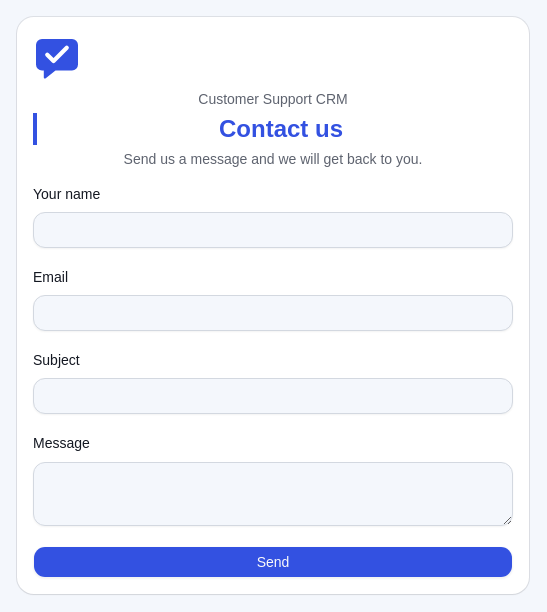
Test: Contact form (embedded web form) › submits the fields and shows the ticket number
Type "Nour Ali" into the field labelled "Your name" at (273, 230), box [33, 212, 513, 248]
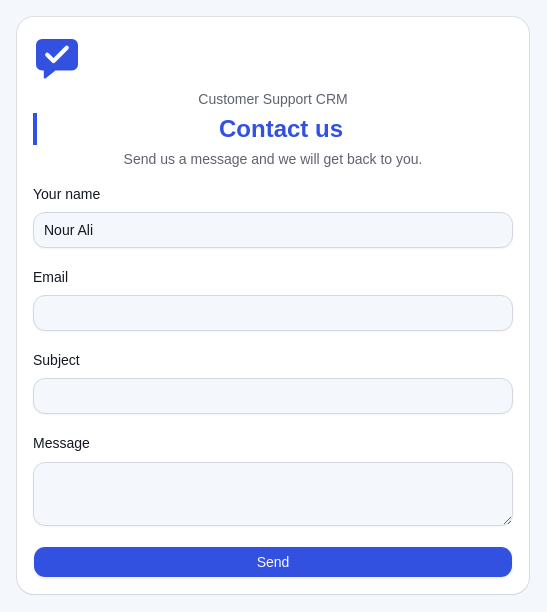
Type "nour@x.example" into the field labelled "Email" at (273, 313), box [33, 295, 513, 331]
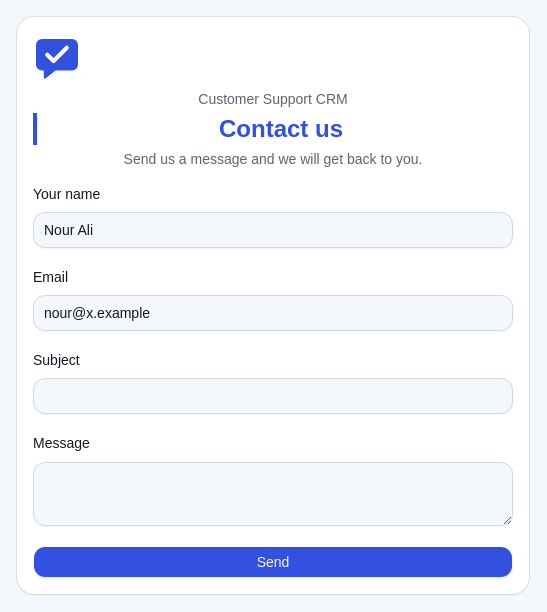
Type "Printer" into the field labelled "Subject" at (273, 396), box [33, 378, 513, 414]
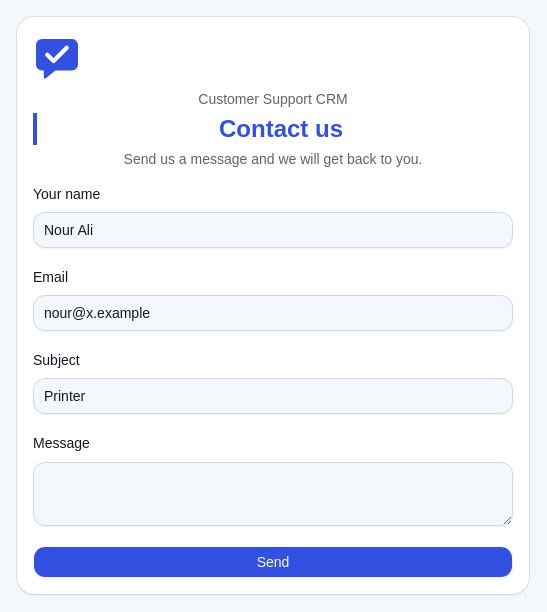
Type "Blank pages" into the text box labelled "Message" at (273, 494), box [33, 462, 513, 526]
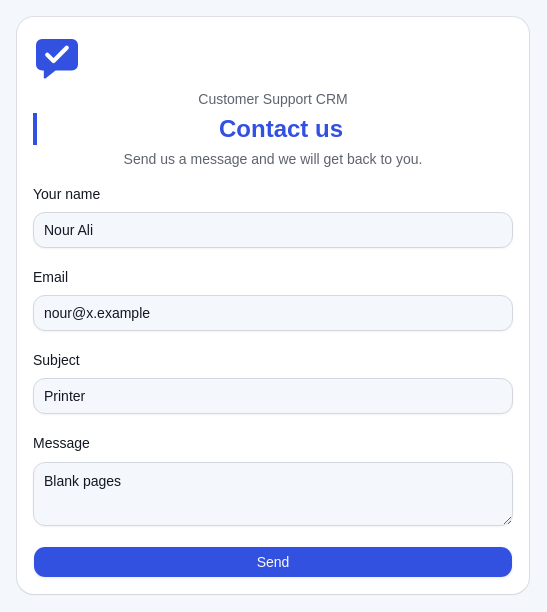
Click the button "Send" at (273, 562), box [33, 546, 513, 578]
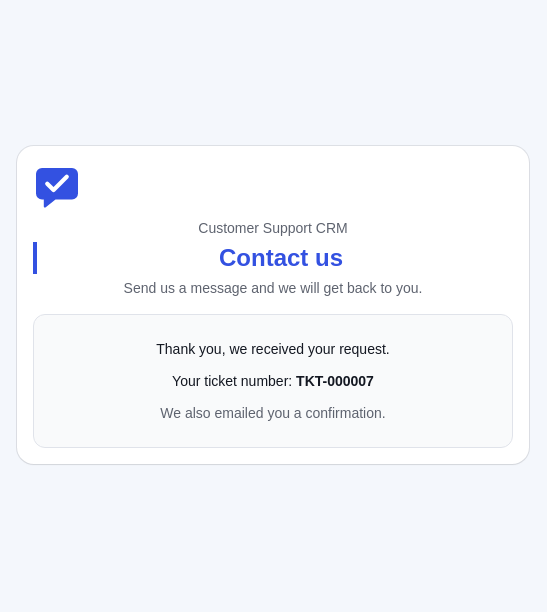
Expected: the text "TKT-000007" is shown, [296, 373, 374, 389]
